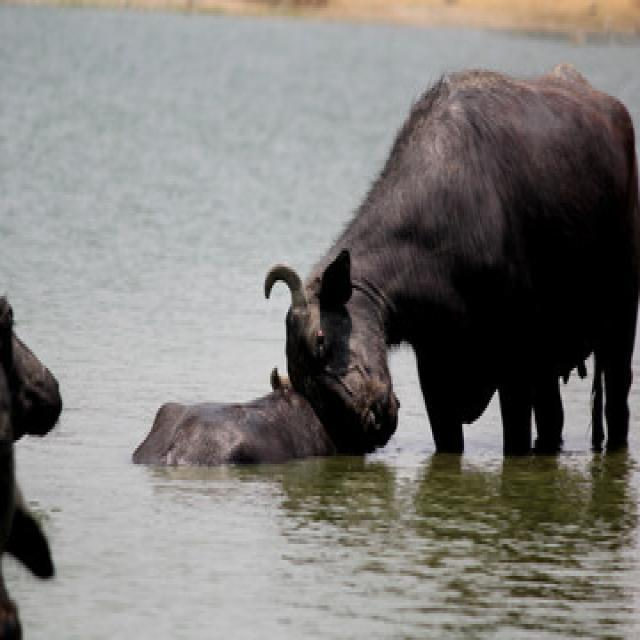Buffalo: (262, 64, 640, 460)
